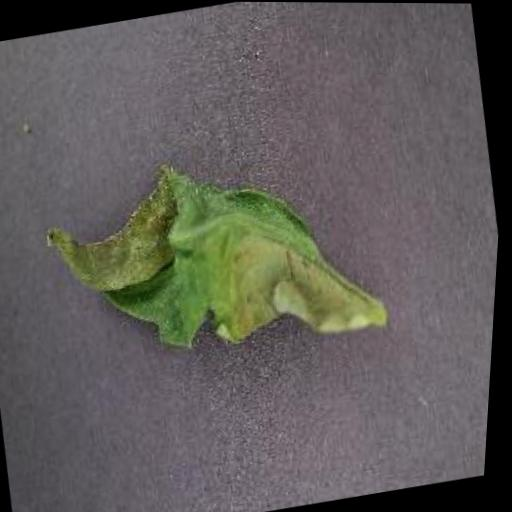Late Blight: (32, 128, 407, 383)
